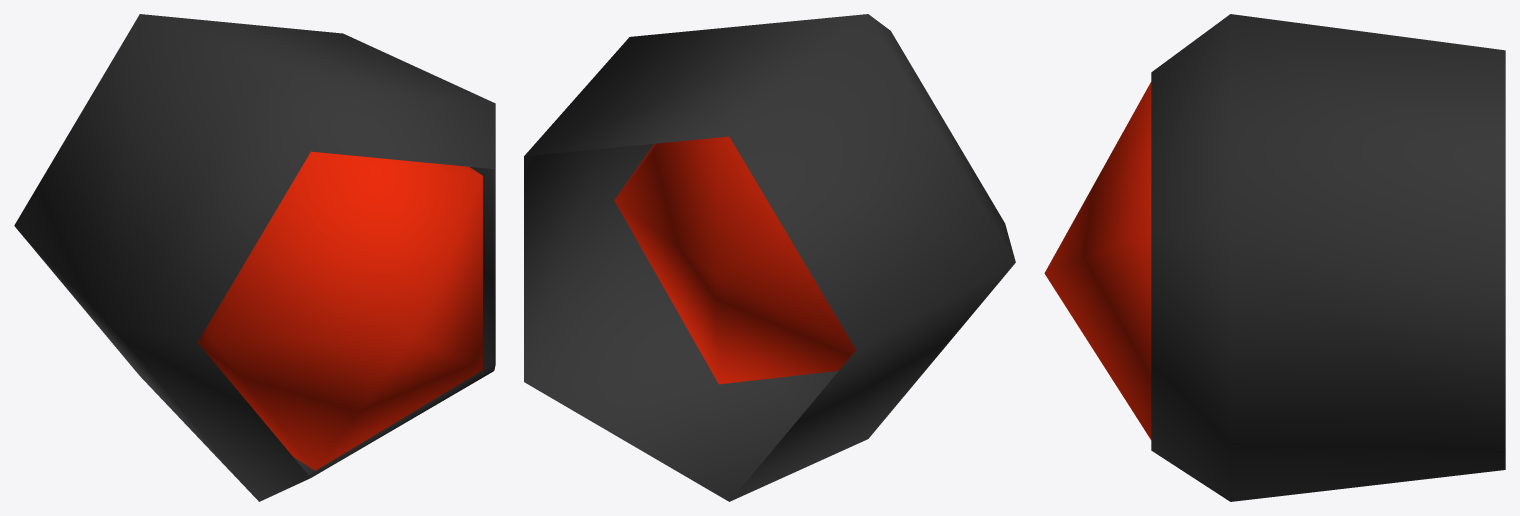
The model's file is fireball_01.fbx.
3 views of the same model, side by side, from view 1: azimuth 30°, elevation 25°; view 2: azimuth 150°, elevation 25°; view 3: azimuth 270°, elevation 25° (orthographic). The views are drawn at different scales.
Visible parts, largest first — view 1: Cylinder, Icosphere; view 2: Cylinder, Icosphere; view 3: Cylinder, Icosphere.
Part boxes in pixels (left/top/right/bottom): Cylinder: left=14, top=14, right=495, bottom=501; Icosphere: left=197, top=151, right=482, bottom=470; Cylinder: left=524, top=14, right=1015, bottom=501; Icosphere: left=614, top=136, right=855, bottom=384; Cylinder: left=1151, top=14, right=1505, bottom=501; Icosphere: left=1044, top=82, right=1151, bottom=439.
Size of the model in its own units: 510 by 536 by 497.
